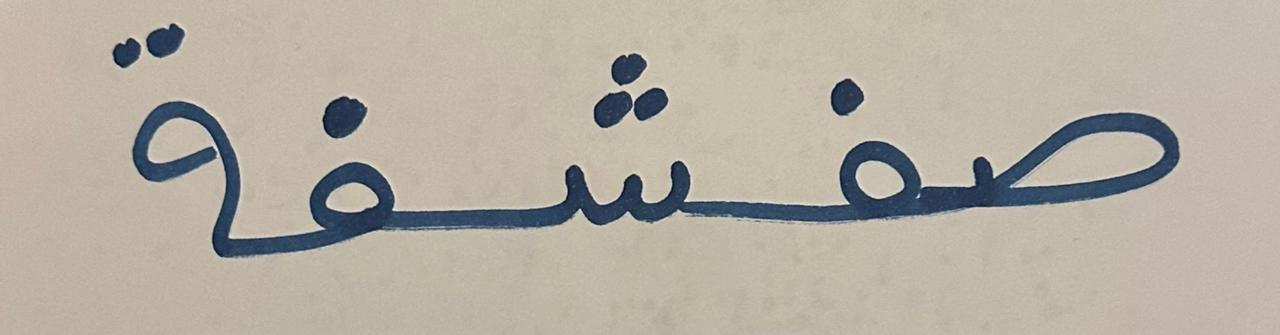feh: (738, 33, 949, 273), (276, 51, 472, 290)
seen: (952, 71, 1219, 254)
tah: (477, 19, 734, 282)
thal: (82, 3, 273, 284)
